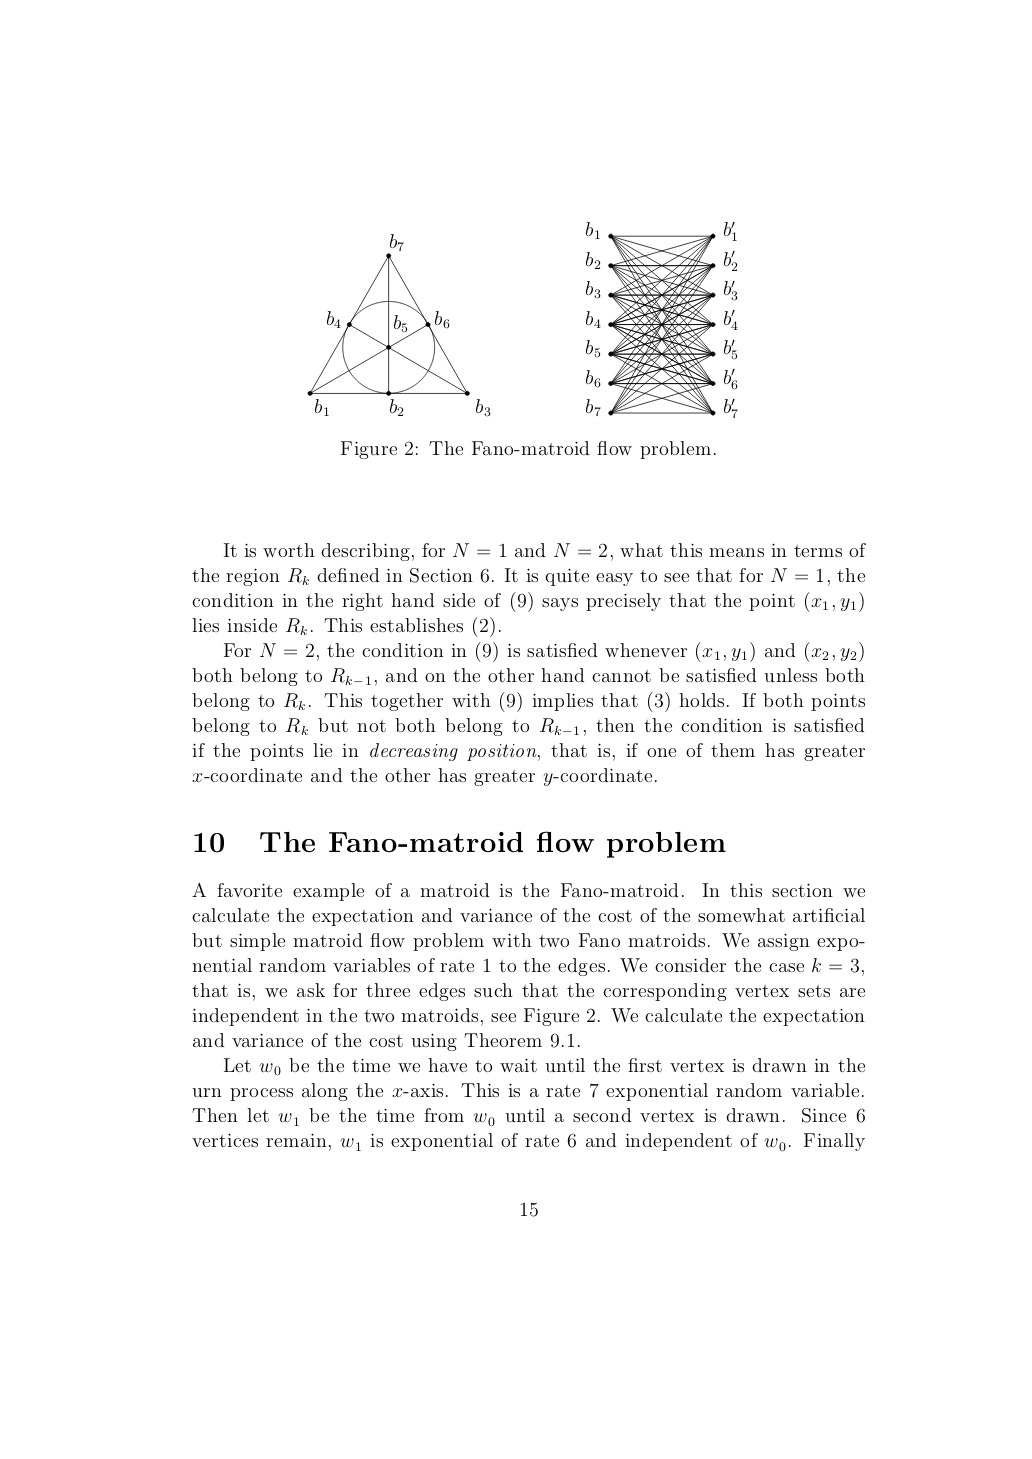figure: (307, 232, 490, 417), (586, 220, 737, 419)
